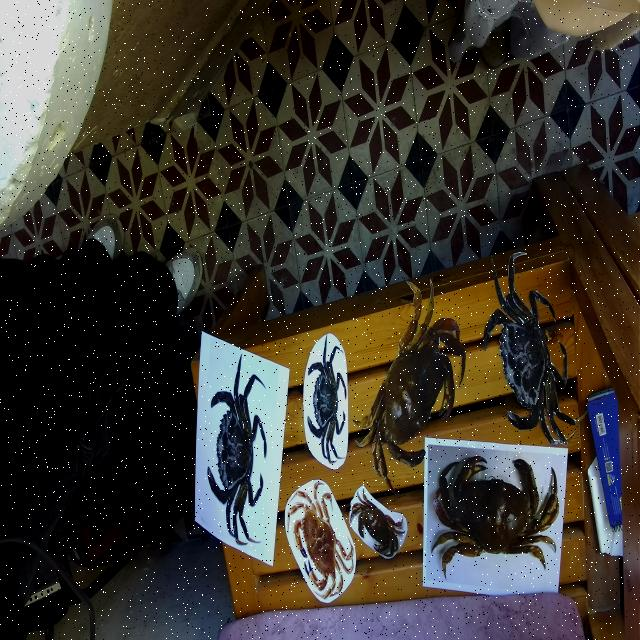European_Green_Crab: (462, 220, 592, 486), (202, 348, 273, 550), (307, 333, 347, 465)
